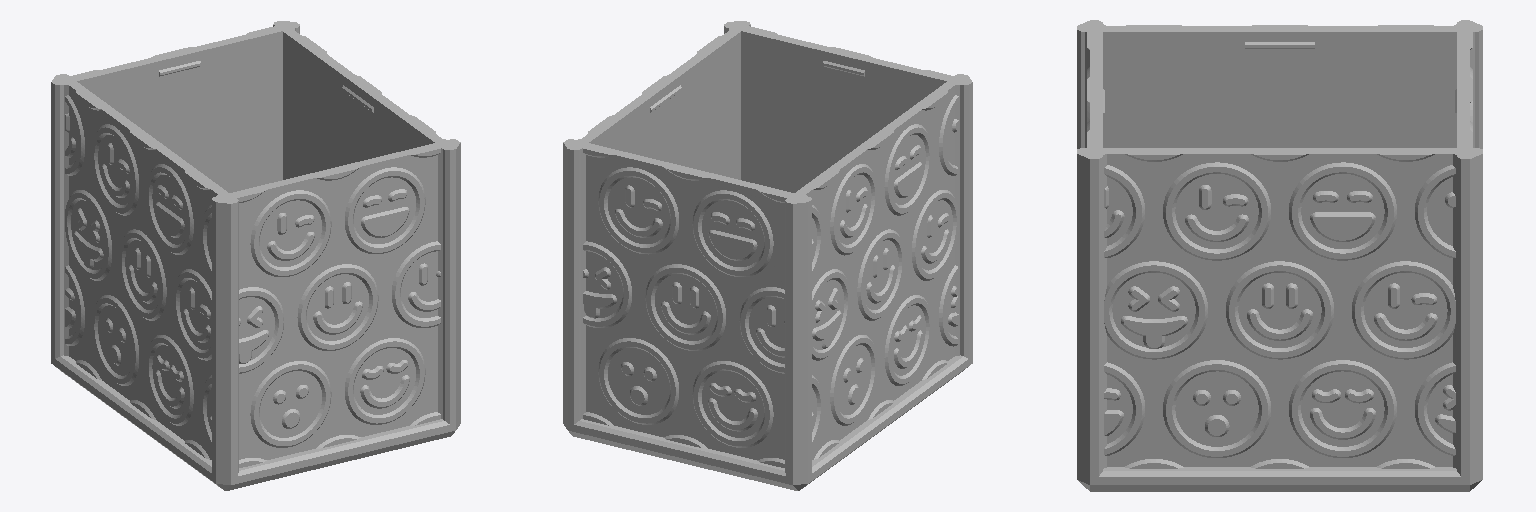
URDF robot description (root):
<?xml version='1.0' encoding='utf-8'?>
<robot name="root">
  <link name="link_001">
    <visual>
      <origin xyz="0 0 0" rpy="0 0 0" />
      <geometry>
        <mesh filename="cc5de5fefca08809a60436cc9e43cc753d6101b80473fcc21ccc8b5dd61e6533_scale_000.stl" scale="1.0000E+00 1.0000E+00 1.0000E+00" />
      </geometry>
      <material name="">
        <color rgba="7.50E-01 7.50E-01 7.50E-01 1" />
      </material>
    </visual>
    <collision>
      <origin xyz="0 0 0" rpy="0 0 0" />
      <geometry>
        <mesh filename="cc5de5fefca08809a60436cc9e43cc753d6101b80473fcc21ccc8b5dd61e6533_scale_000.stl" scale="1.0000E+00 1.0000E+00 1.0000E+00" />
      </geometry>
    </collision>
  </link>
</robot>

--- Render facts (derived) ---
The picture shows the robot from 3 angles, left to right: view 1: azimuth 30°, elevation 25°; view 2: azimuth 150°, elevation 25°; view 3: azimuth 270°, elevation 25°; orthographic projection.
Model root with 1 links and 0 joints (none), rooted at link_001, posed every joint at zero.
Links seen in each view (by area): view 1: link_001; view 2: link_001; view 3: link_001.
Link boxes in pixels (x1,y1,x2,y2): link_001: (51,21,460,490); link_001: (563,21,972,490); link_001: (1077,20,1482,491).
Size in the robot's own frame: 0.0968 by 0.12 by 0.1101 metres.
1 mesh visuals loaded from 1 distinct referenced files (1 binary STL).
